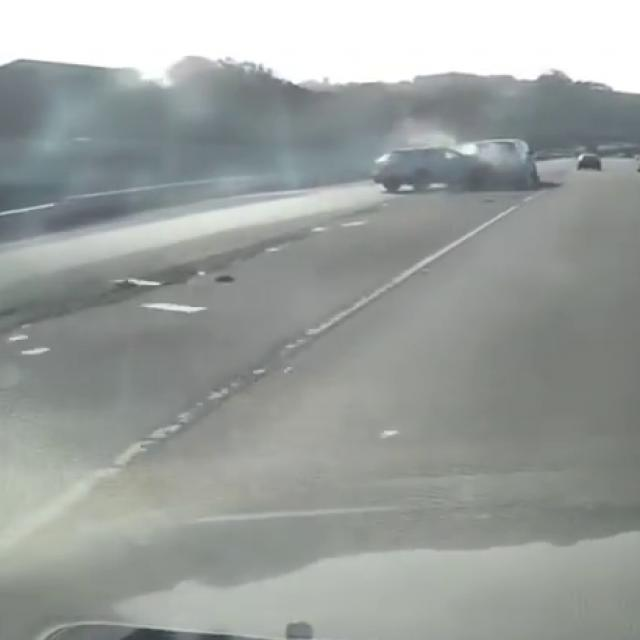accident: (350, 138, 548, 204)
